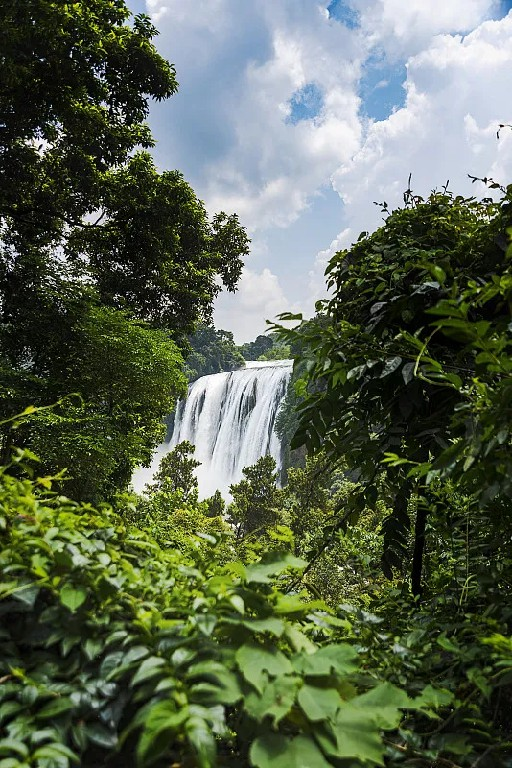Huangguoshu: (128, 359, 294, 491)
